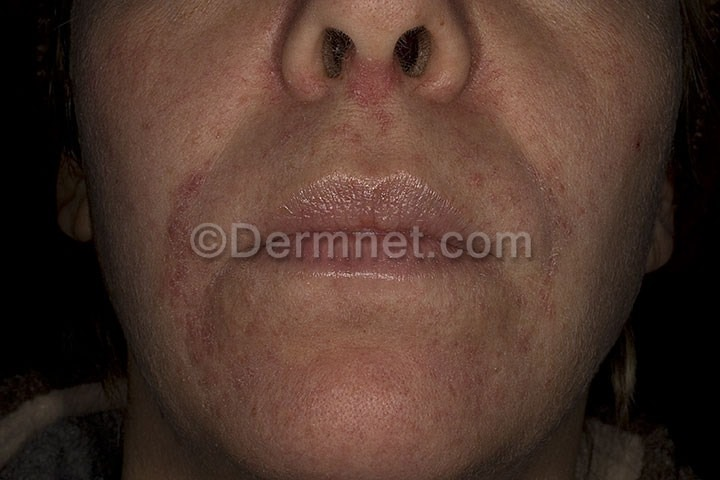Acne: (157, 60, 566, 427)
